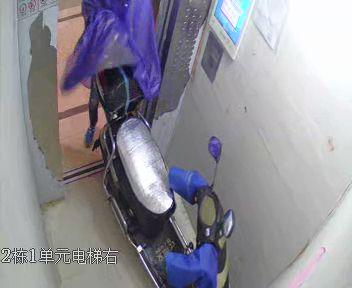Electric-bicycle: (100, 89, 233, 282)
